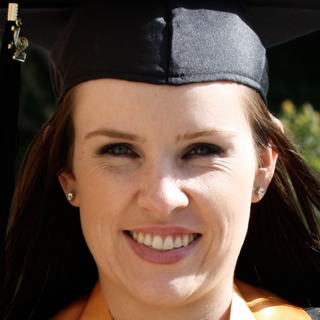eye: (91, 136, 150, 171), (176, 140, 230, 166)
